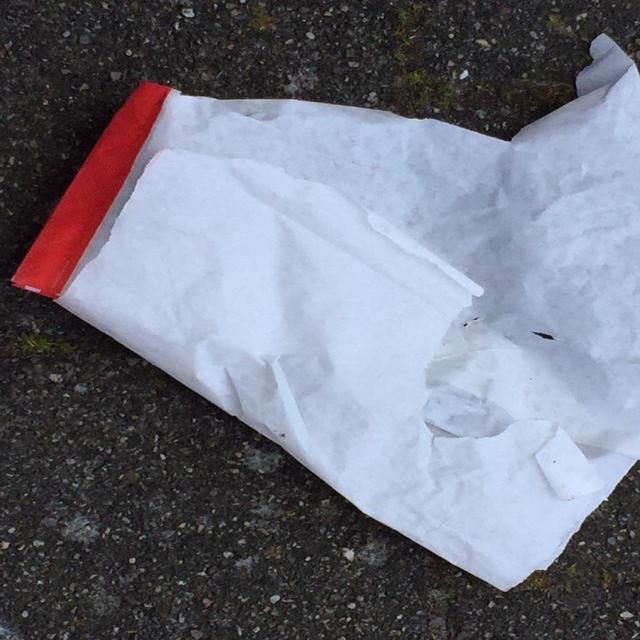Paper: (6, 29, 640, 596)
